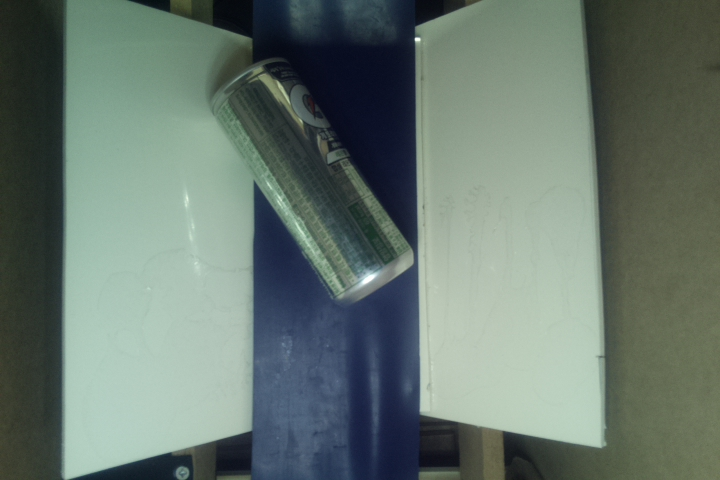can: (205, 57, 421, 308)
